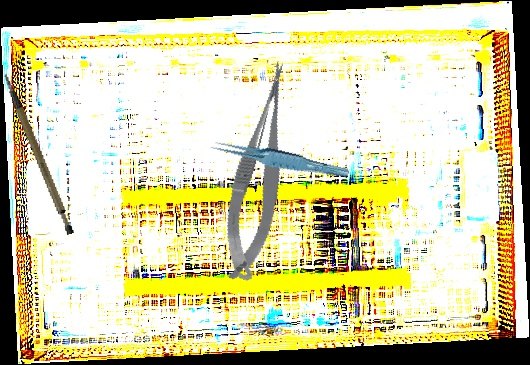Micro Scissor: (206, 57, 317, 287)
Scalpel Handle: (2, 66, 77, 241)
Tissue Forceps: (207, 128, 351, 189)
